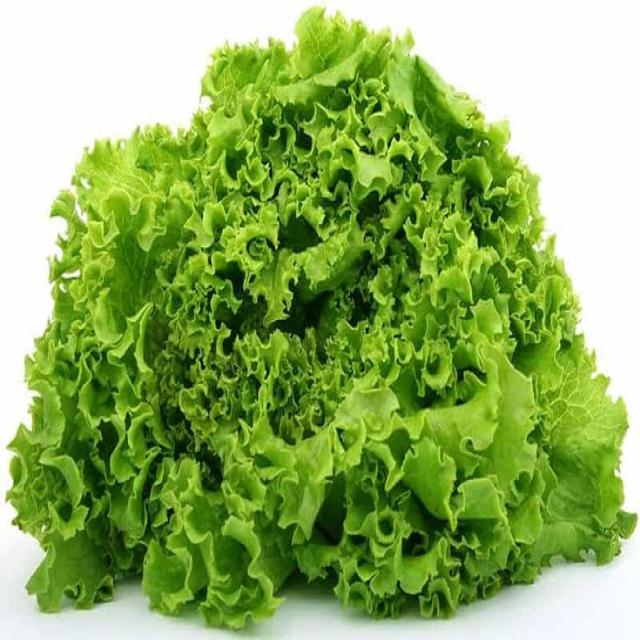lettuce: (9, 9, 635, 627)
